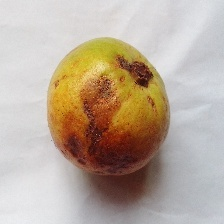guava: (18, 31, 179, 175)
